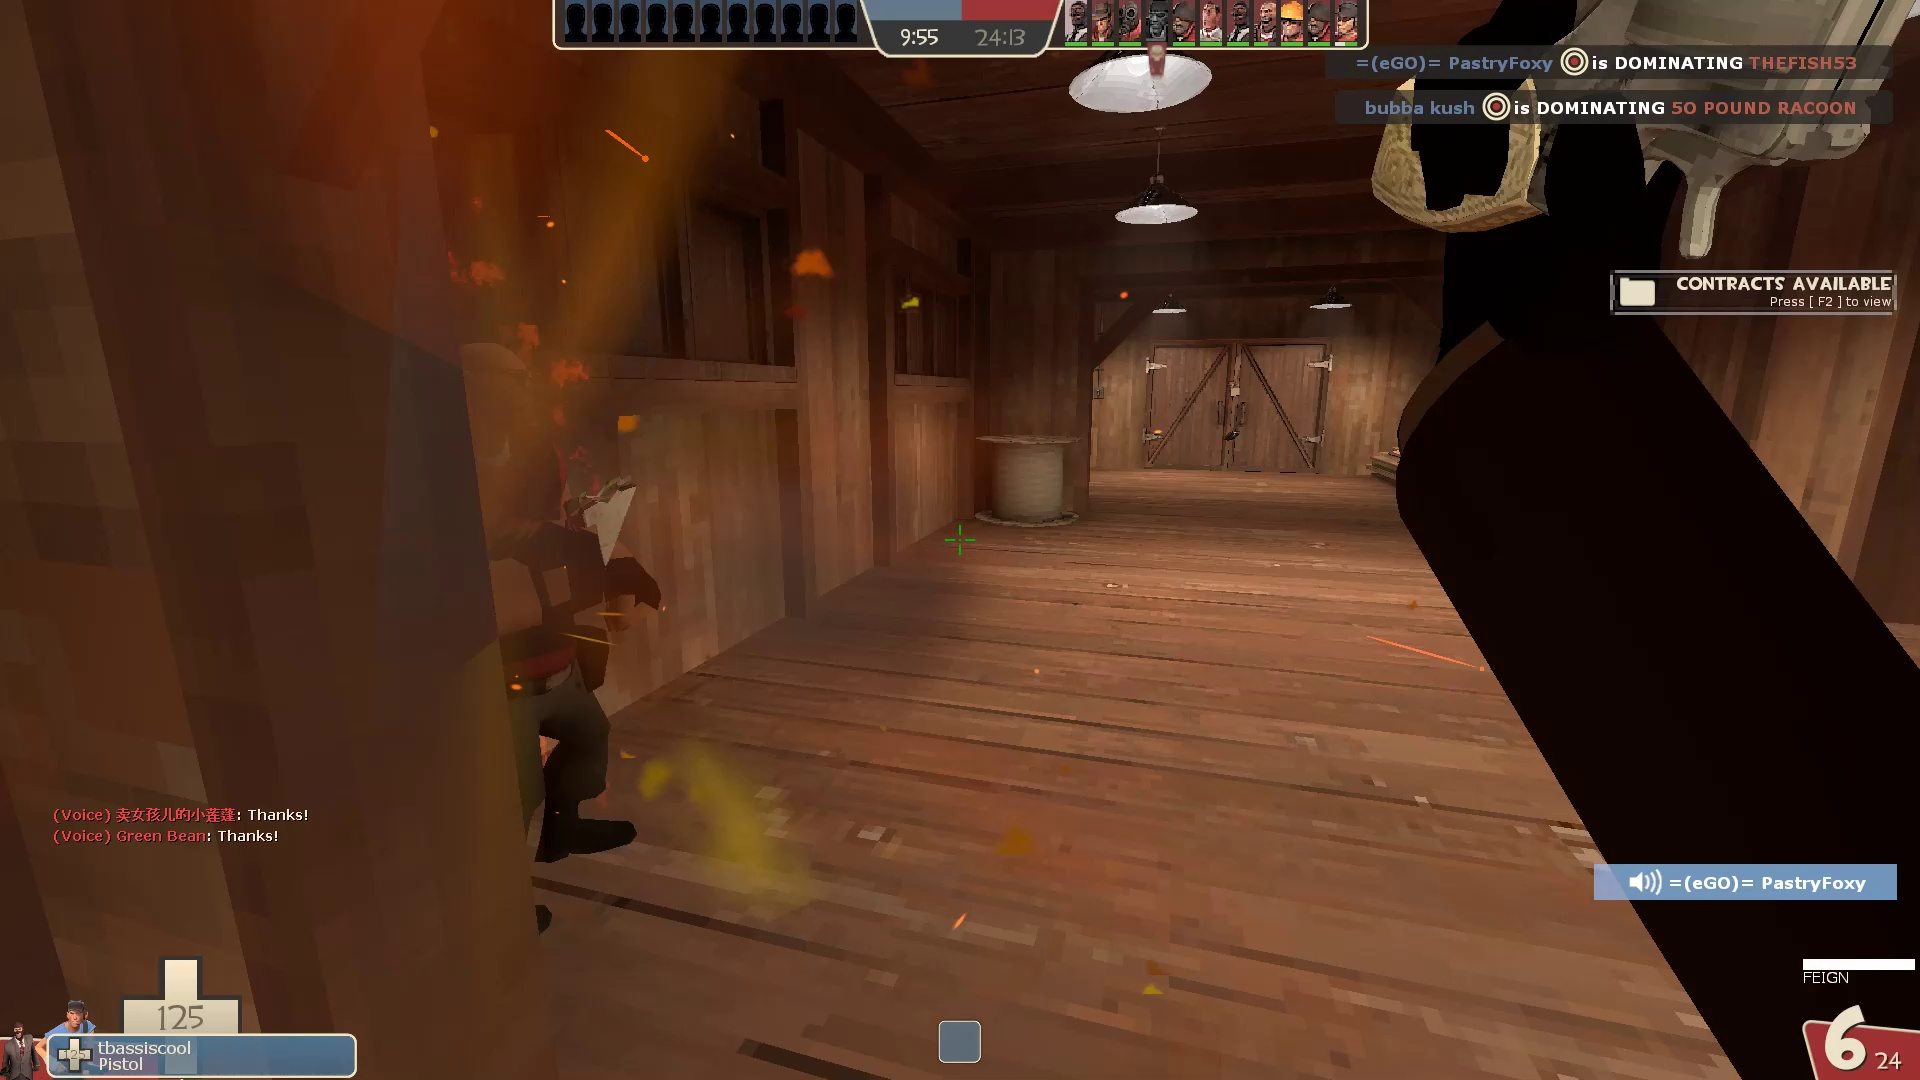red_heavy: (382, 320, 679, 971)
